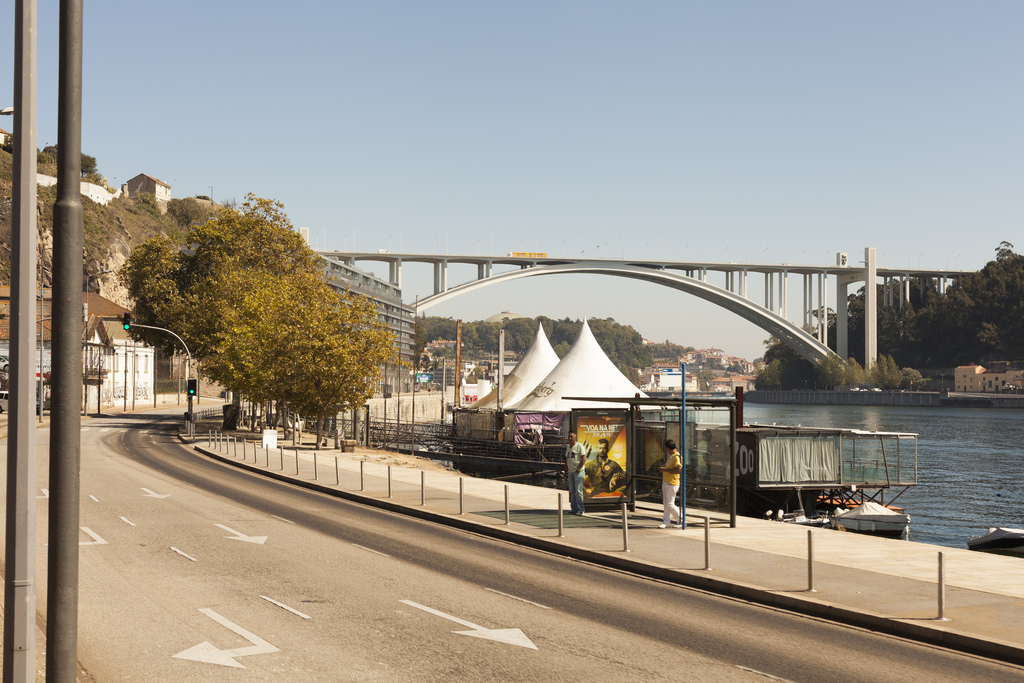arrabida: (301, 245, 967, 392)
